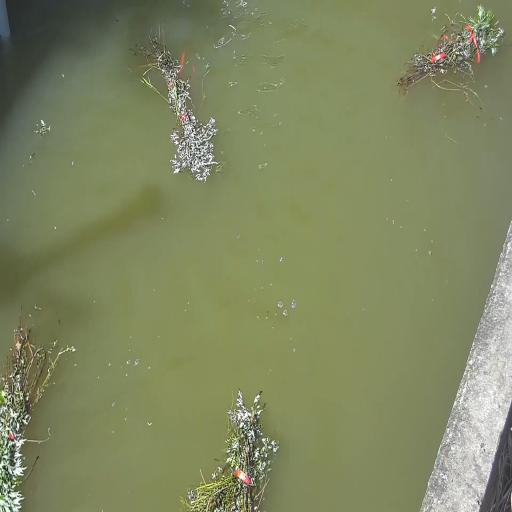twig: (0, 305, 74, 511), (132, 24, 218, 182), (178, 385, 279, 511), (395, 4, 506, 102)
